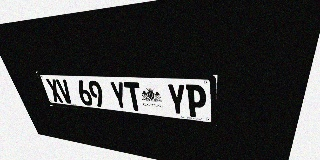6: (75, 80, 94, 106)
9: (87, 80, 106, 107)
P: (186, 84, 206, 118)
T: (123, 82, 144, 111)
V: (55, 79, 74, 104)
X: (45, 79, 64, 103)
Y: (166, 83, 187, 116), (109, 81, 129, 110)
